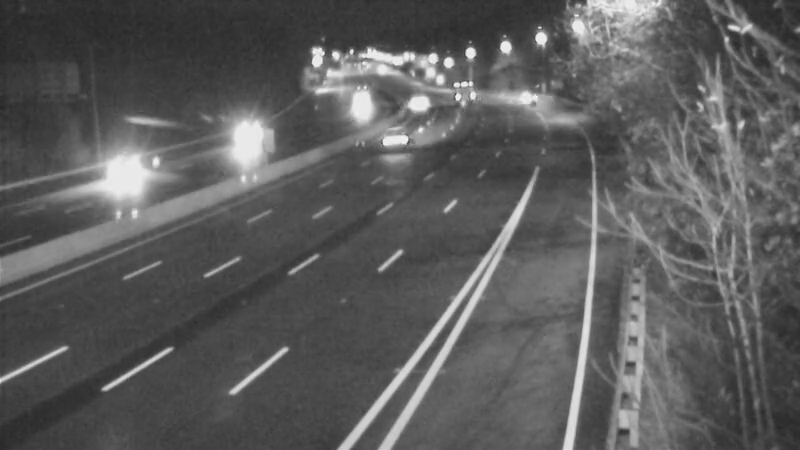vehicle: (84, 143, 164, 223), (508, 75, 558, 125), (432, 67, 482, 117), (389, 72, 439, 122), (367, 115, 417, 165), (222, 116, 272, 166), (337, 75, 387, 125)
